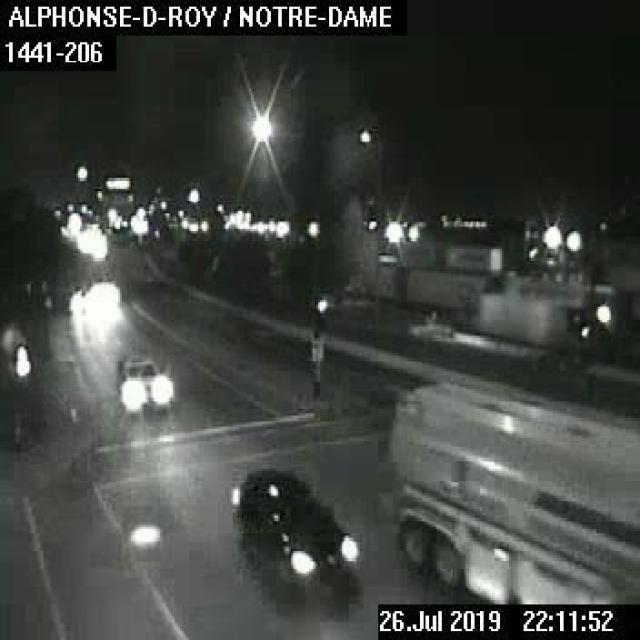vehicle: (387, 378, 638, 602), (231, 467, 364, 609), (111, 354, 171, 416)
